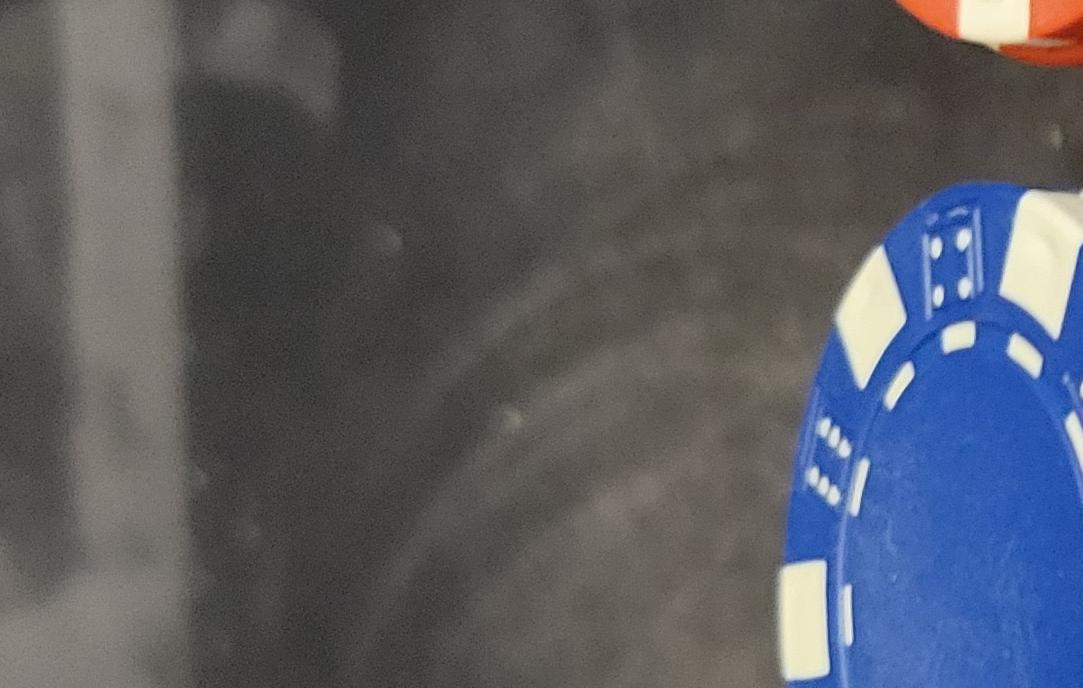Chip: (1, 355, 772, 688)
